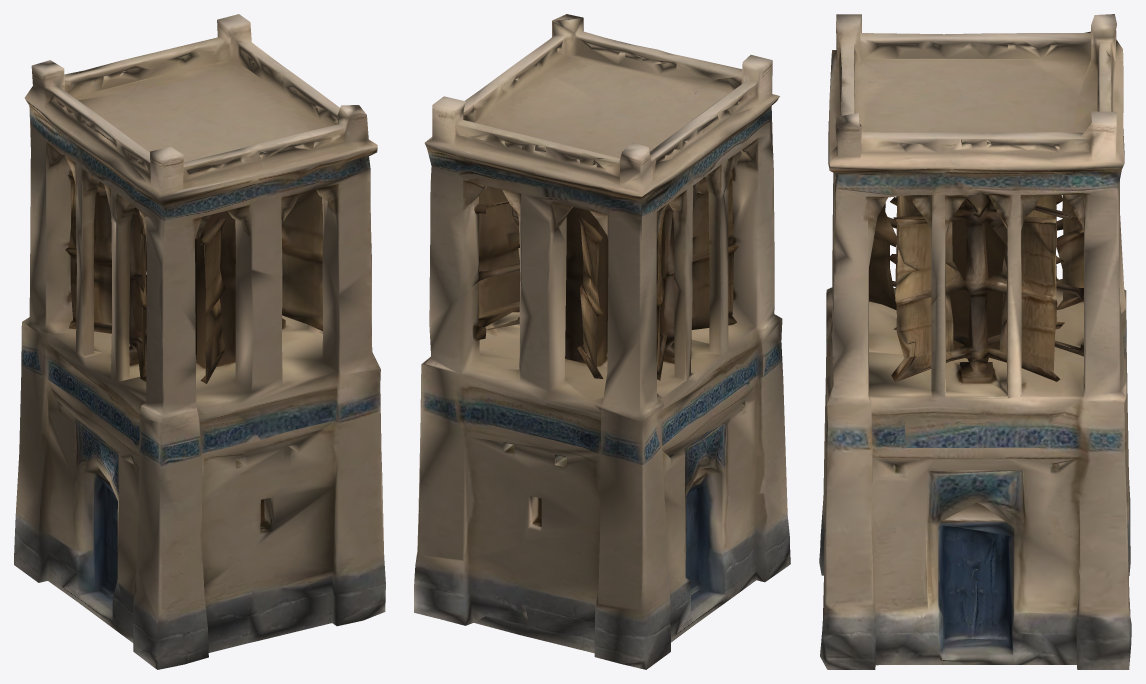
The model's file is windmill_asbad_2.glb.
3 views of the same model, side by side, from view 1: azimuth 30°, elevation 25°; view 2: azimuth 150°, elevation 25°; view 3: azimuth 270°, elevation 25° (orthographic). The views are drawn at different scales.
Parts seen in each view (by area): view 1: tripo_node_becd3683-fbf9-4524-8b07-bb78623aa53b; view 2: tripo_node_becd3683-fbf9-4524-8b07-bb78623aa53b; view 3: tripo_node_becd3683-fbf9-4524-8b07-bb78623aa53b.
Part boxes in pixels (left/top/right/bottom): tripo_node_becd3683-fbf9-4524-8b07-bb78623aa53b: left=14, top=14, right=385, bottom=669; tripo_node_becd3683-fbf9-4524-8b07-bb78623aa53b: left=414, top=14, right=790, bottom=669; tripo_node_becd3683-fbf9-4524-8b07-bb78623aa53b: left=819, top=14, right=1131, bottom=669.
Bounding box in the file's own units: 0.4699 × 0.9777 × 0.5117.
Materials: 1 (1 with a texture image).
